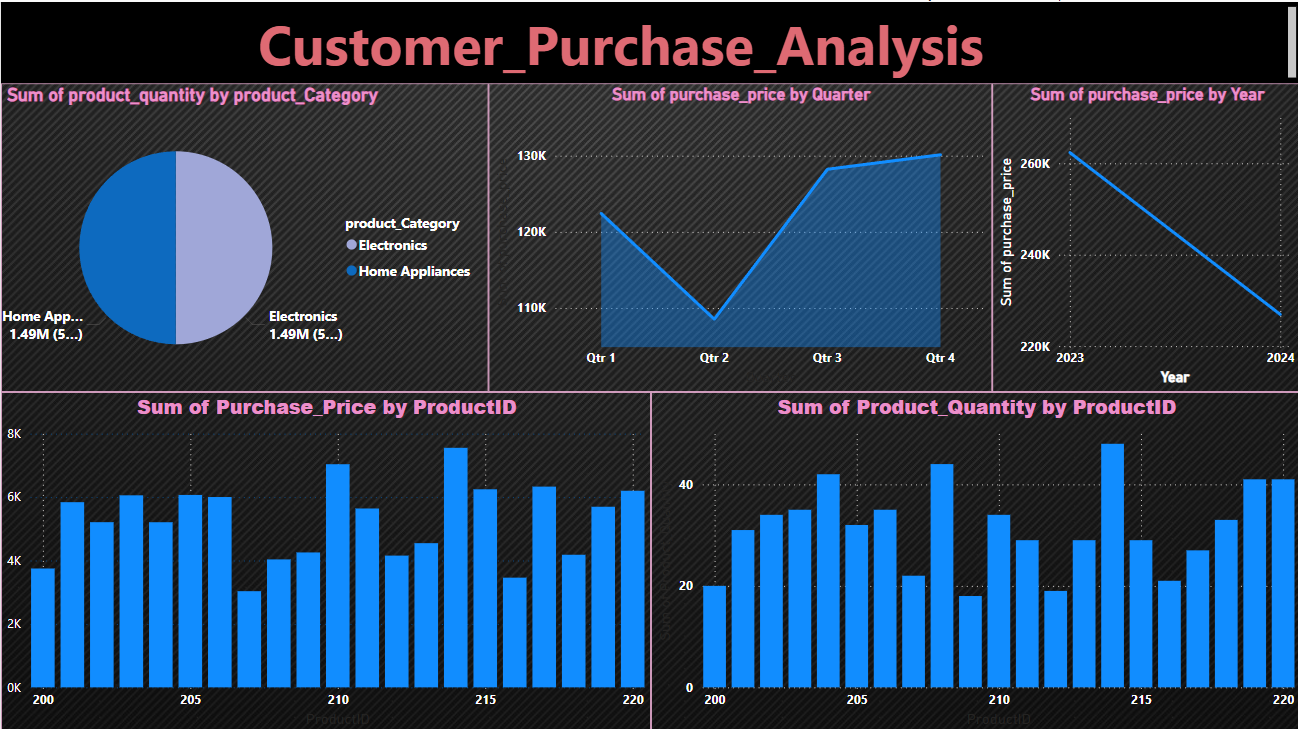

What the dashboard file says about the page in this screenshot:
{"tool":"powerbi","page":{"name":"Page 2","canvas":[1280,720],"ordinal":1},"visuals":[{"type":"pieChart","title":"Sum of product_quantity by product_Category","fields":{"Y":["retails customer_purchase_data.TOTAL REVENUE"],"Category":["retails products.product_Category"]},"box":[0,80,480,304],"z":0},{"type":"columnChart","fields":{"Y":["Sum(retails customer_purchase_data.Purchase_Price)"],"Category":["retails customer_purchase_data.ProductID"]},"box":[0,384,640,336],"z":1},{"type":"columnChart","fields":{"Y":["Sum(retails customer_purchase_data.Product_Quantity)"],"Category":["retails customer_purchase_data.ProductID"]},"box":[640,384,640,336],"z":2},{"type":"areaChart","fields":{"Category":["retails purchase.purchase_date.Variation.Date Hierarchy.Quarter"],"Y":["Sum(retails purchase.purchase_price)"]},"box":[480,80,496,304],"z":3},{"type":"lineChart","fields":{"Y":["Sum(retails purchase.purchase_price)"],"Category":["retails purchase.purchase_date.Variation.Date Hierarchy.Year"]},"box":[976,80,304,304],"z":4},{"type":"textbox","box":[0,0,1280,80],"z":5}]}

Visuals, with their boxes in screenshot pixels (x1, y1, x2, y2), scaled from the page's 1280x720 canvas onto the 1298x729 screenshot:
"Sum of product_quantity by product_Category" pieChart: [0, 81, 487, 389]
columnChart - Sum(retails customer_purchase_data.Purchase_Price) x retails customer_purchase_data.ProductID: [0, 389, 649, 728]
columnChart - Sum(retails customer_purchase_data.Product_Quantity) x retails customer_purchase_data.ProductID: [649, 389, 1297, 728]
areaChart - retails purchase.purchase_date.Variation.Date Hierarchy.Quarter x Sum(retails purchase.purchase_price): [487, 81, 990, 389]
lineChart - Sum(retails purchase.purchase_price) x retails purchase.purchase_date.Variation.Date Hierarchy.Year: [990, 81, 1297, 389]
textbox: [0, 0, 1297, 81]
